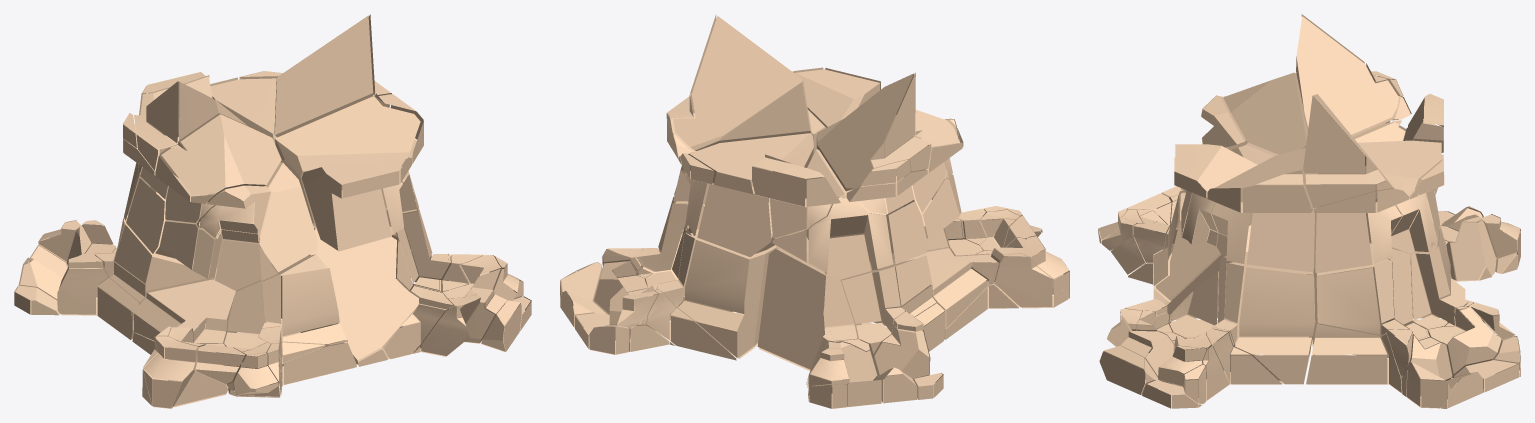
File: PillarG.fbx
3 views of the same model, side by side, from view 1: azimuth 30°, elevation 25°; view 2: azimuth 150°, elevation 25°; view 3: azimuth 270°, elevation 25° (orthographic).
Visible parts, largest first — view 1: Cylinder.004_cell.002; view 2: Cylinder.004_cell.002; view 3: Cylinder.004_cell.002.
Boxes of the visible parts, <box> form: Cylinder.004_cell.002: <box>14,14,531,408</box>; Cylinder.004_cell.002: <box>560,14,1069,408</box>; Cylinder.004_cell.002: <box>1098,14,1520,408</box>.
Size of the model in its own units: 342 by 235 by 332.
